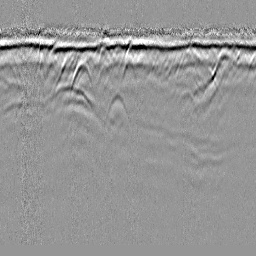cavity: (120, 52, 137, 83)
